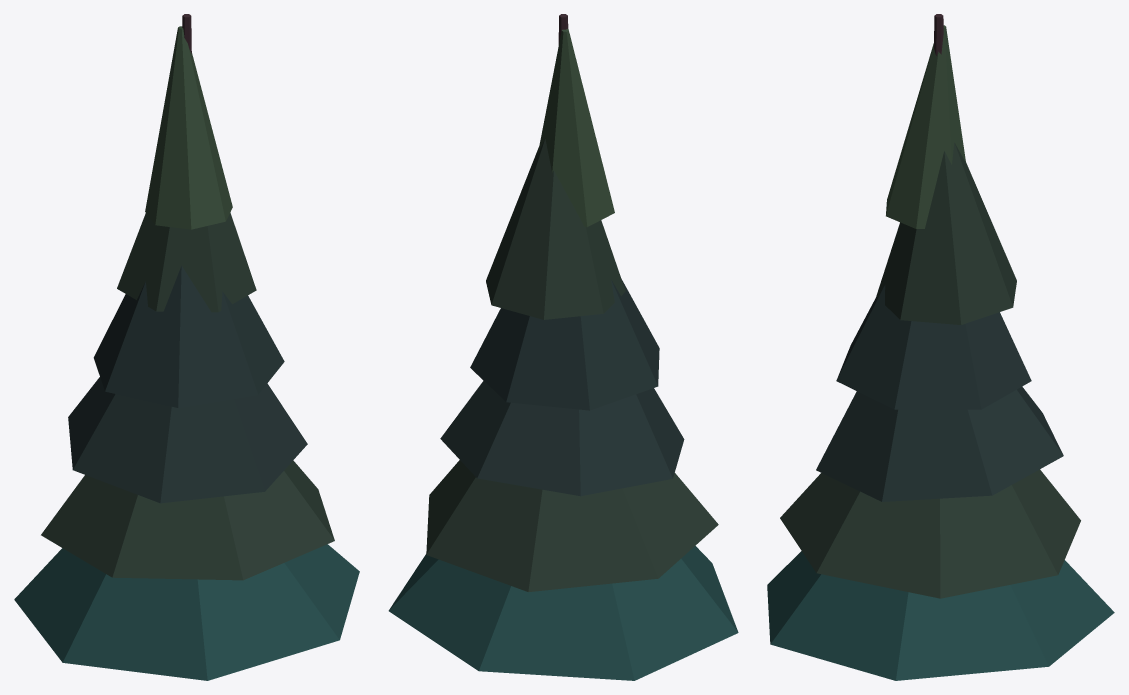
Rendered from brad_1.glb.
The picture shows the model from 3 angles, left to right: view 1: azimuth 30°, elevation 25°; view 2: azimuth 150°, elevation 25°; view 3: azimuth 270°, elevation 25°; orthographic projection. The views are drawn at different scales.
Visible parts, largest first — view 1: Brad; view 2: Brad; view 3: Brad.
Boxes of the visible parts, x1,y1,x2,y2 form: Brad: [14, 14, 359, 680]; Brad: [388, 14, 738, 680]; Brad: [767, 14, 1114, 680].
Size of the model in its own units: 4.69 by 9 by 4.6.
